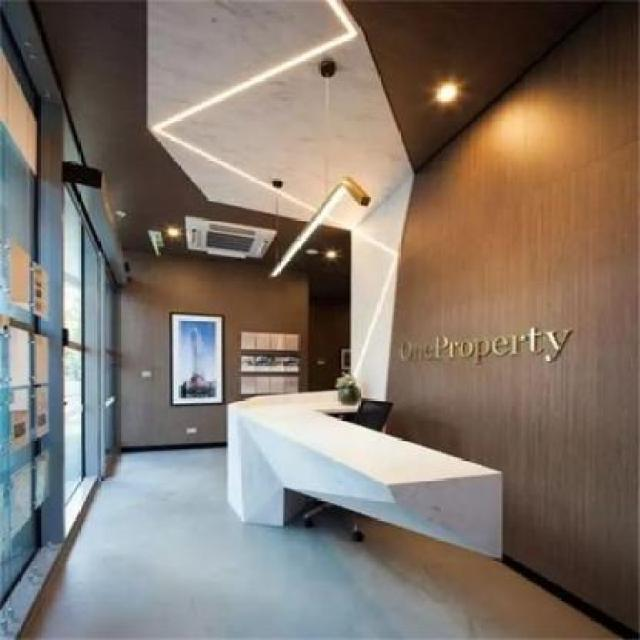frontdesk: (217, 368, 521, 596)
